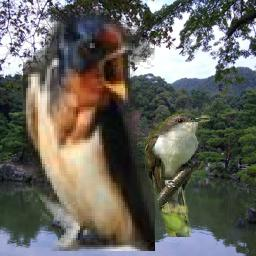Cuckoo: (146, 109, 211, 238)
Swallow: (23, 5, 155, 251)
